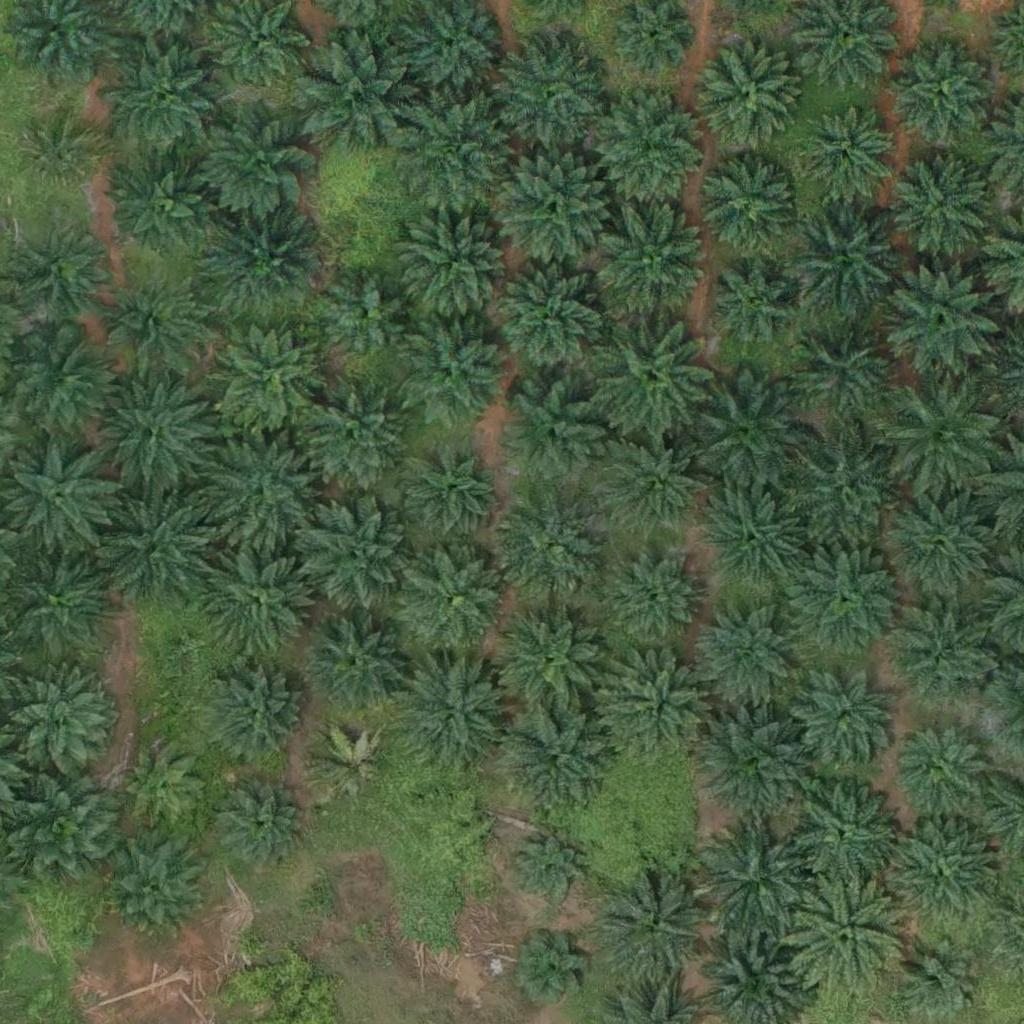Kelapa_Sawit: (100, 30, 225, 156), (195, 100, 320, 226), (292, 33, 417, 159), (395, 92, 520, 218), (489, 257, 614, 383), (590, 199, 715, 325), (589, 314, 714, 440), (685, 370, 810, 496), (781, 190, 906, 316), (780, 309, 905, 435), (780, 425, 905, 551), (881, 259, 1006, 385), (879, 377, 1004, 503), (879, 479, 1004, 605), (782, 536, 907, 662), (786, 880, 911, 1006), (695, 818, 820, 944), (401, 210, 514, 324), (700, 700, 813, 814), (493, 495, 606, 609), (3, 326, 116, 439), (99, 380, 212, 493), (399, 315, 512, 428), (392, 433, 505, 546), (493, 381, 606, 494), (593, 92, 706, 205), (603, 655, 716, 768), (596, 870, 709, 983), (493, 604, 606, 717), (497, 705, 610, 818), (201, 540, 314, 653), (197, 653, 310, 766), (95, 492, 208, 605), (496, 148, 608, 262), (601, 427, 713, 541), (885, 813, 997, 927), (787, 667, 899, 781), (788, 774, 900, 888), (109, 152, 221, 265), (96, 268, 208, 381), (208, 205, 320, 318), (213, 324, 325, 437), (206, 434, 318, 547), (294, 379, 406, 492), (491, 33, 603, 146), (398, 544, 510, 657), (397, 658, 509, 771), (298, 495, 410, 608), (698, 42, 798, 143), (697, 157, 797, 258), (794, 104, 894, 205), (891, 40, 991, 141), (891, 152, 991, 253), (897, 603, 997, 704), (208, 773, 308, 874), (113, 733, 213, 834), (704, 253, 804, 353), (703, 484, 803, 584), (694, 605, 794, 705), (601, 551, 701, 651), (104, 832, 204, 932), (306, 722, 394, 811), (323, 271, 411, 359), (313, 623, 401, 711), (18, 224, 105, 312), (898, 724, 985, 812), (24, 117, 99, 192), (513, 831, 588, 906), (514, 930, 589, 1005)
